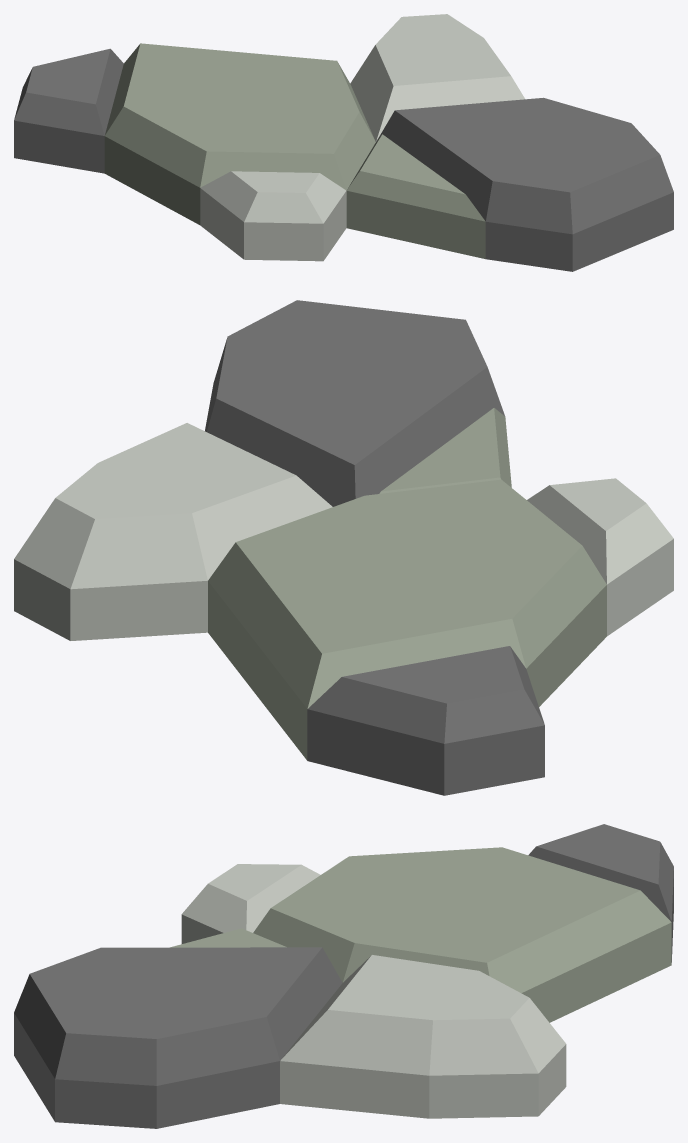
The model's file is rock-type4-01-green.glb.
3 views of the same model, one above another, from view 1: azimuth 30°, elevation 25°; view 2: azimuth 150°, elevation 25°; view 3: azimuth 270°, elevation 25° (orthographic). The views are drawn at different scales.
Visible parts, largest first — view 1: Rock_Type4_01_mesh; view 2: Rock_Type4_01_mesh; view 3: Rock_Type4_01_mesh.
Boxes of the visible parts, bbox=[...] form: Rock_Type4_01_mesh: bbox=[14, 14, 673, 271]; Rock_Type4_01_mesh: bbox=[14, 300, 673, 795]; Rock_Type4_01_mesh: bbox=[14, 824, 673, 1128].
Bounding box in the file's own units: 1.86 × 0.3156 × 2.14.
Materials: 1 (1 with a texture image).
